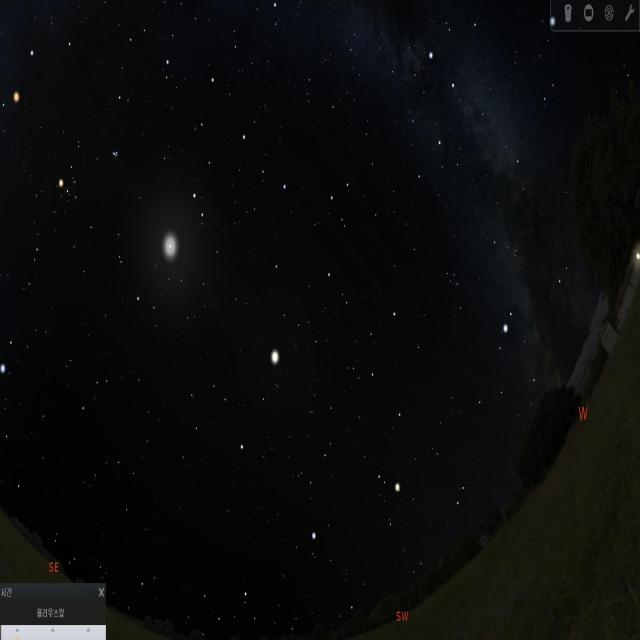aquila: (468, 305, 546, 452)
cygnus: (426, 14, 523, 173)
lyra: (536, 12, 565, 125)
moon: (149, 208, 192, 290)
pleiades: (104, 146, 126, 170)
taurus: (48, 127, 131, 246)
